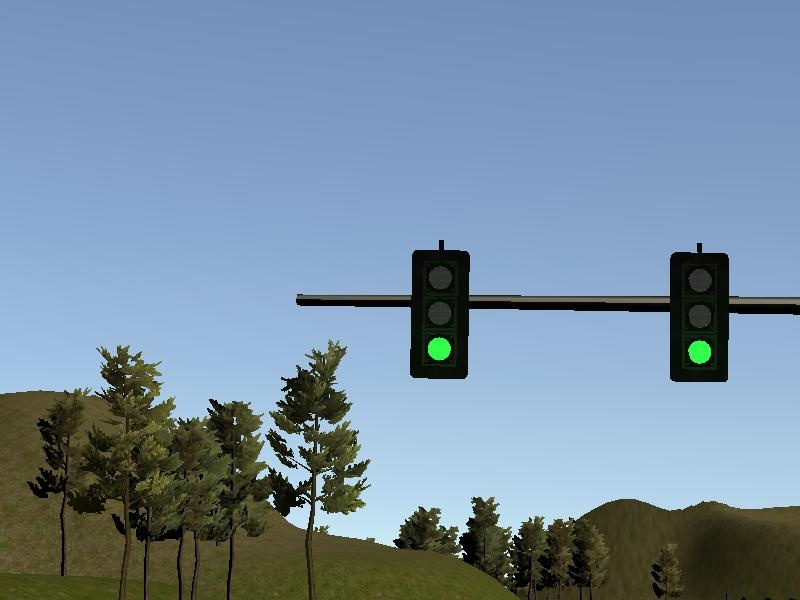GREEN: (409, 249, 470, 378), (667, 253, 728, 382)
